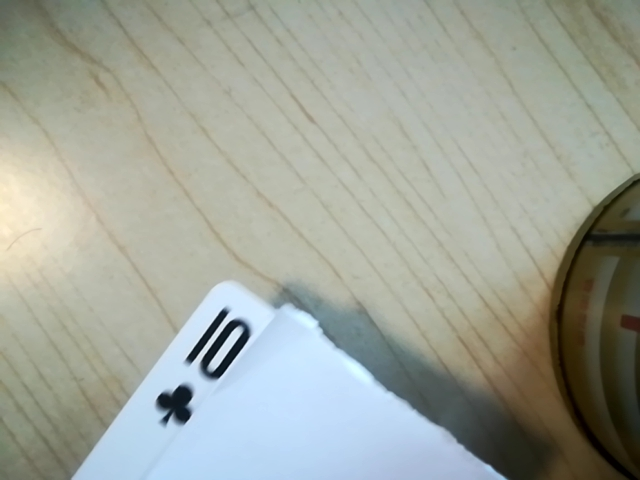mh 10: (144, 303, 262, 434)
